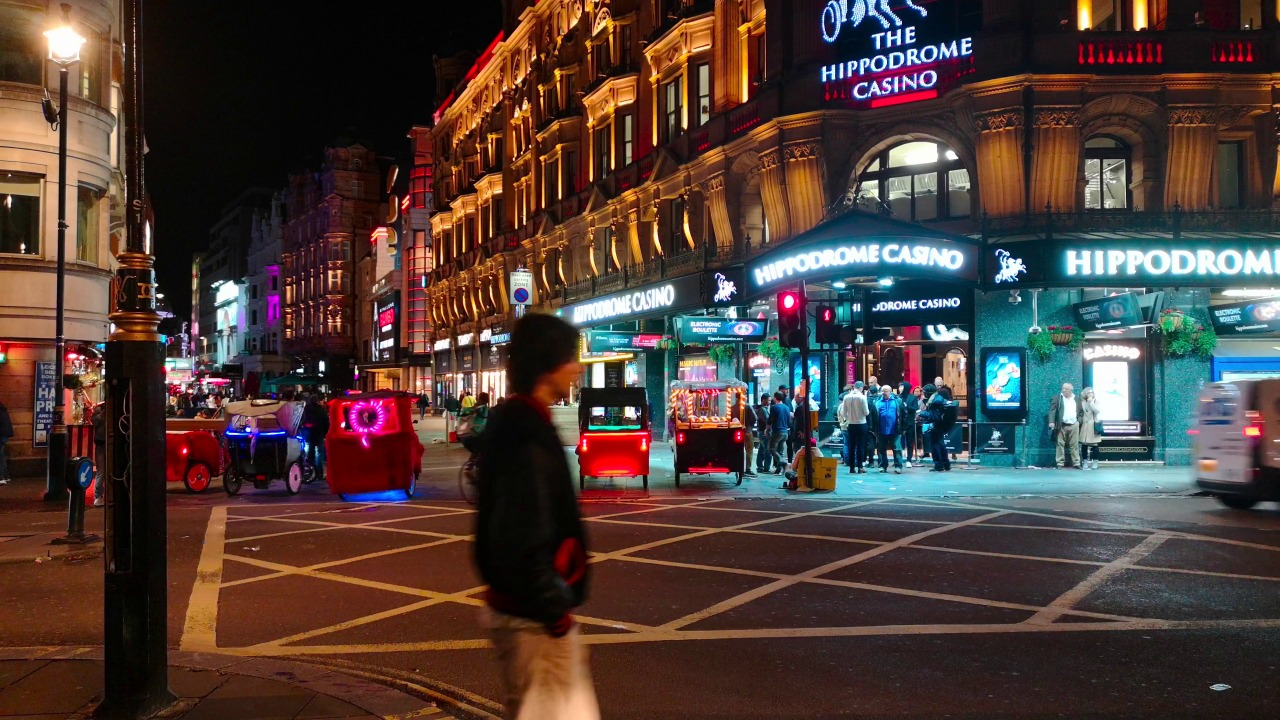car: (1199, 363, 1280, 510), (321, 400, 423, 504), (218, 391, 289, 502), (586, 392, 653, 480), (673, 384, 731, 484), (169, 414, 215, 494)
person: (506, 313, 573, 720), (784, 439, 837, 495), (875, 383, 908, 469), (1048, 381, 1073, 482), (850, 389, 877, 474), (924, 393, 944, 471), (767, 400, 783, 477), (446, 391, 468, 445), (1081, 392, 1098, 458), (771, 372, 787, 400), (942, 373, 957, 398), (901, 380, 914, 406), (876, 374, 886, 397)
